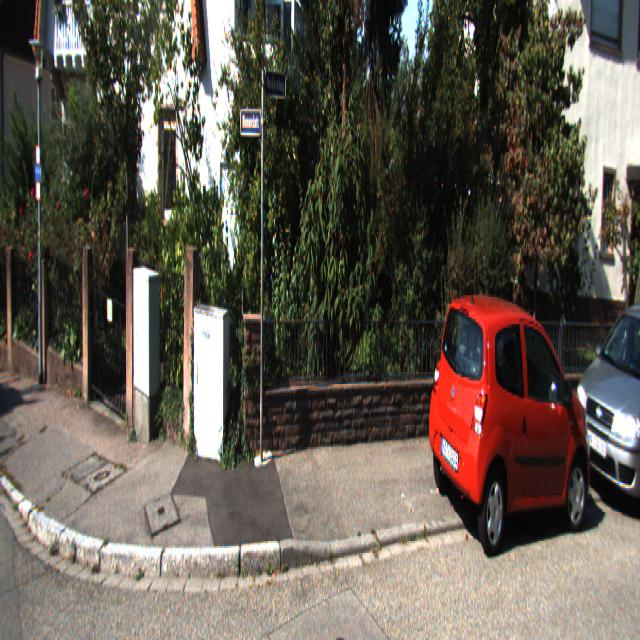Car: (427, 295, 592, 575), (566, 304, 640, 536)
